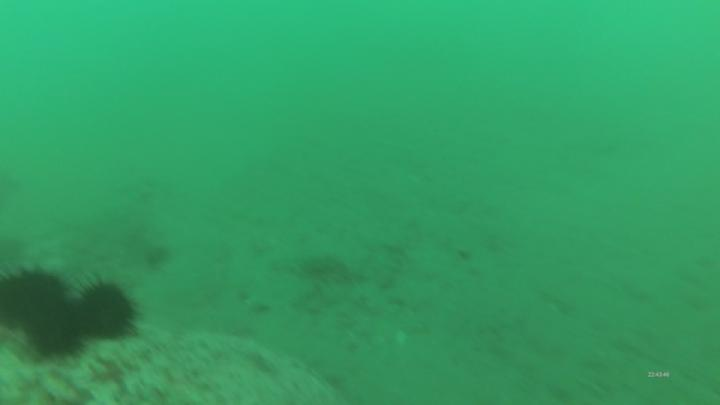echinus: (70, 273, 143, 346), (2, 264, 70, 338), (24, 294, 93, 360)
scallop: (142, 243, 171, 274)
